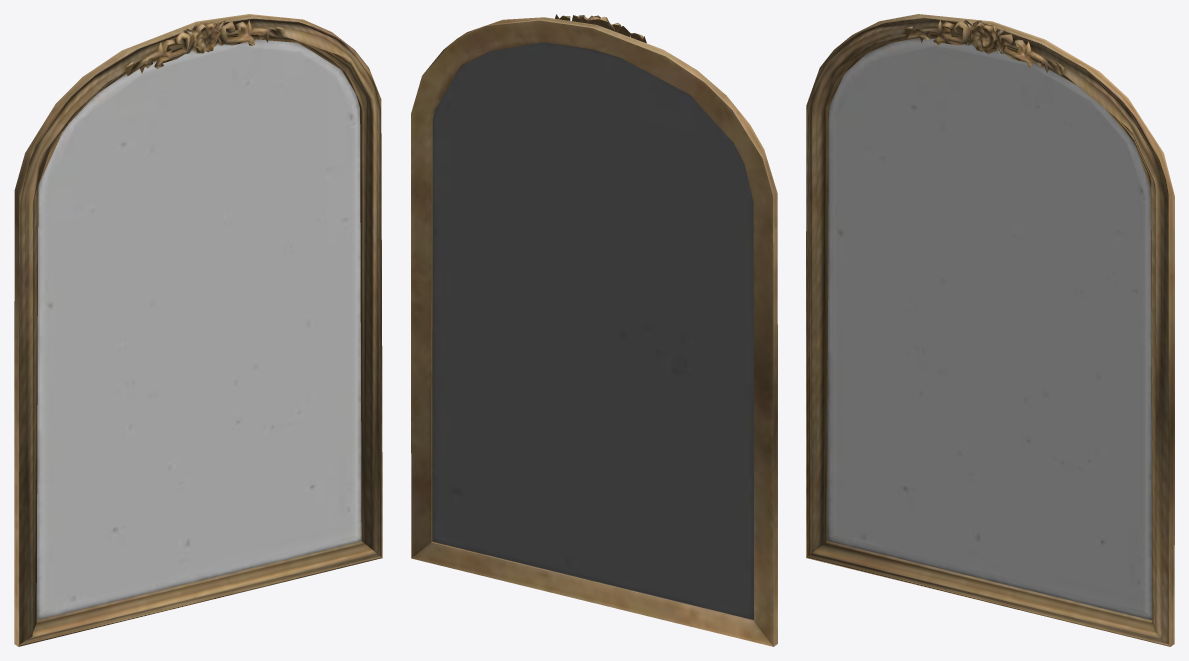
File: mirror.glb
3 renders of one model, left to right at view 1: azimuth 30°, elevation 25°; view 2: azimuth 150°, elevation 25°; view 3: azimuth 330°, elevation 25°, orthographic.
Visible parts, largest first — view 1: ornate_mirror_01; view 2: ornate_mirror_01; view 3: ornate_mirror_01.
Part boxes in pixels (left/top/right/bottom): ornate_mirror_01: left=14, top=14, right=382, bottom=646; ornate_mirror_01: left=411, top=14, right=777, bottom=646; ornate_mirror_01: left=806, top=14, right=1174, bottom=646.
Size of the model in its own units: 0.4856 by 0.7437 by 0.026.
1 material, 1 textured.
